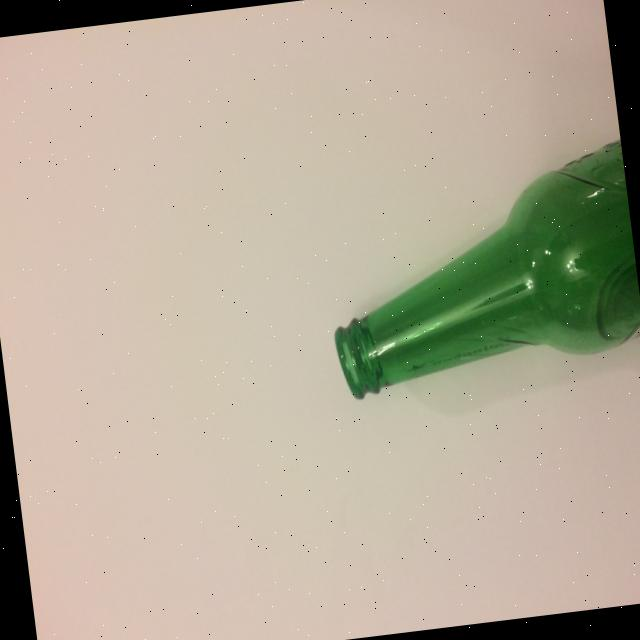glass: (313, 137, 640, 402)
